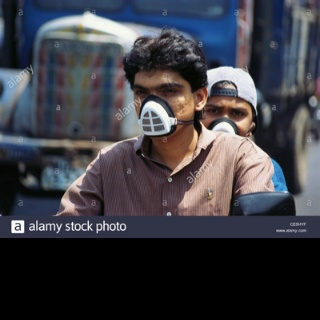with_mask: (132, 80, 194, 140), (203, 100, 252, 137)
